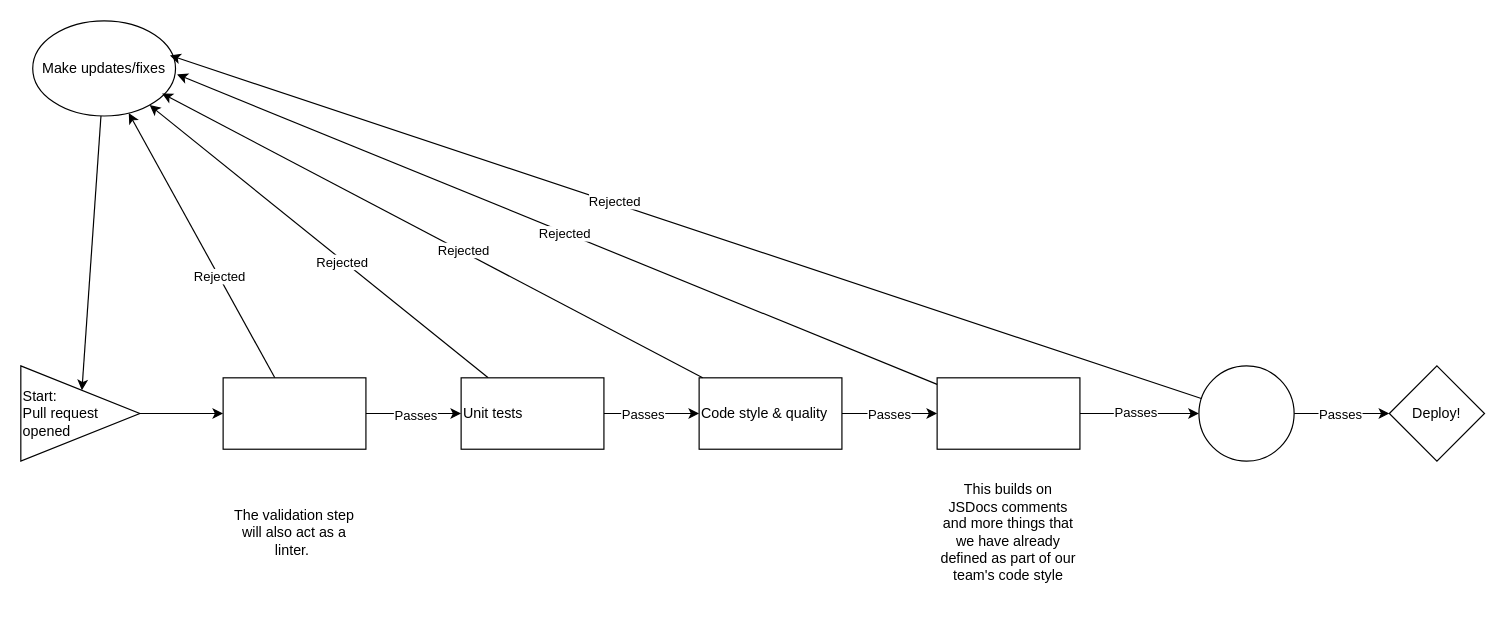
This 1505x625 diagram has some shape labels left out. Here are the shapes that lost their labels. From the top down, the box of each, then its label:
(222, 377, 366, 449): Validator
(936, 377, 1080, 449): Automatic documentation generation
(1198, 365, 1294, 461): Human code review
